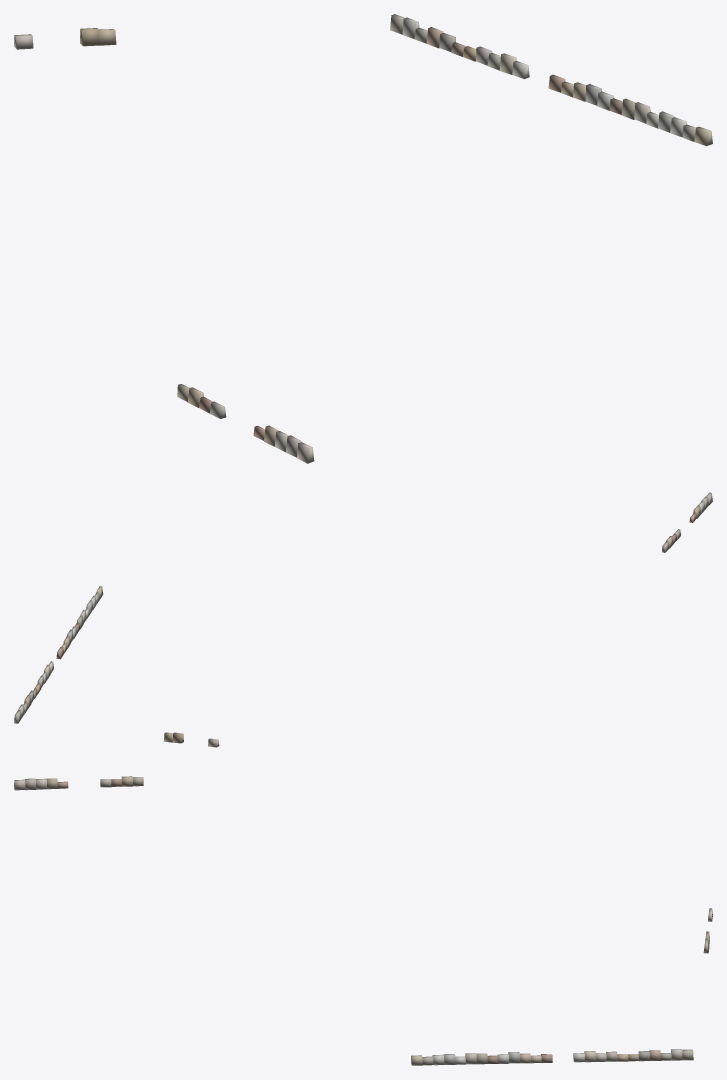
The model's file is farm_12_2_far.glb.
The picture shows the model from 3 angles, top to bottom: view 1: azimuth 30°, elevation 25°; view 2: azimuth 150°, elevation 25°; view 3: azimuth 270°, elevation 25°; orthographic projection. The views are drawn at different scales.
Parts seen in each view (by area): view 1: geometry_0; view 2: geometry_0; view 3: geometry_0.
Part boxes in pixels (x1,y1,x2,y2): geometry_0: [14, 14, 712, 463]; geometry_0: [14, 492, 712, 747]; geometry_0: [14, 776, 712, 1065].
Size of the model in its own units: 74.89 by 13.86 by 98.54.
